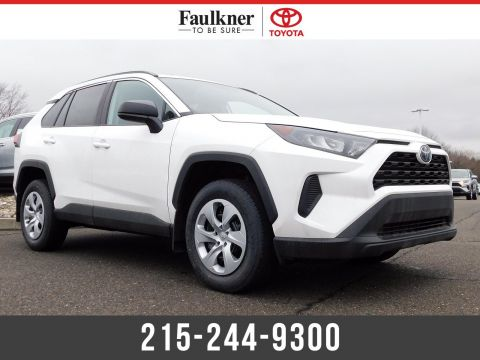Toyota RAV-4: (11, 69, 458, 293)
